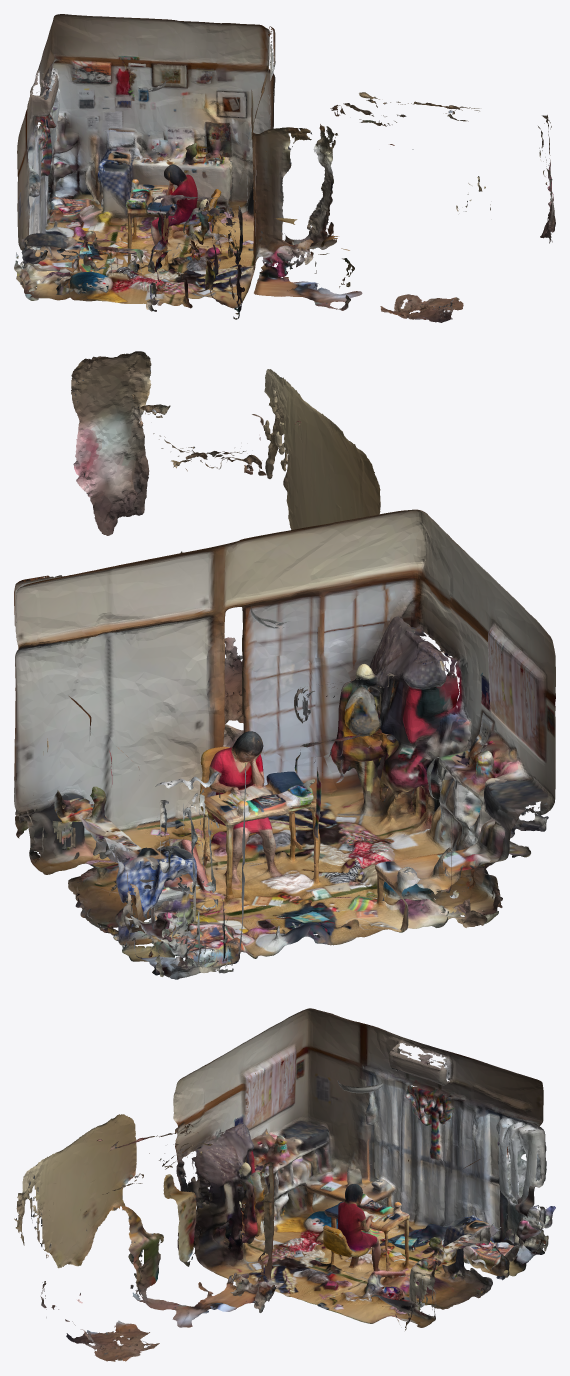
File: MOENE WEB.glb
3 renders of one model, top to bottom at view 1: azimuth 30°, elevation 25°; view 2: azimuth 150°, elevation 25°; view 3: azimuth 270°, elevation 25°, orthographic. The views are drawn at different scales.
Parts seen in each view (by area): view 1: mesh; view 2: mesh; view 3: mesh.
Boxes of the visible parts, x1=… form: mesh: x1=14, y1=14, x2=555, y2=322; mesh: x1=14, y1=351, x2=555, y2=979; mesh: x1=14, y1=1008, x2=555, y2=1361.
Bounding box in the file's own units: 5.9 × 2.65 × 6.39.
1 material, 1 textured.
